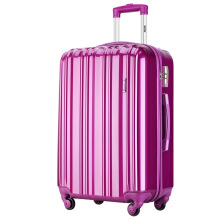luggage: (56, 3, 175, 217)
